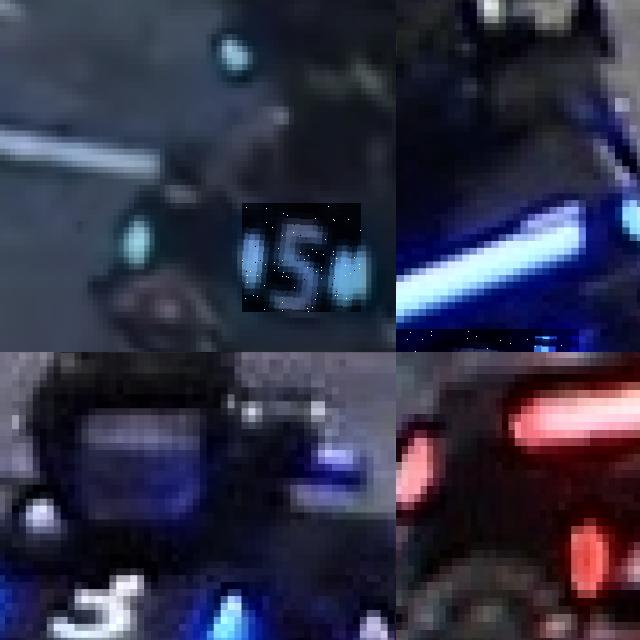B3: (0, 547, 241, 640), (331, 589, 396, 640)
B5: (242, 203, 361, 312)
R4: (552, 470, 640, 622)
